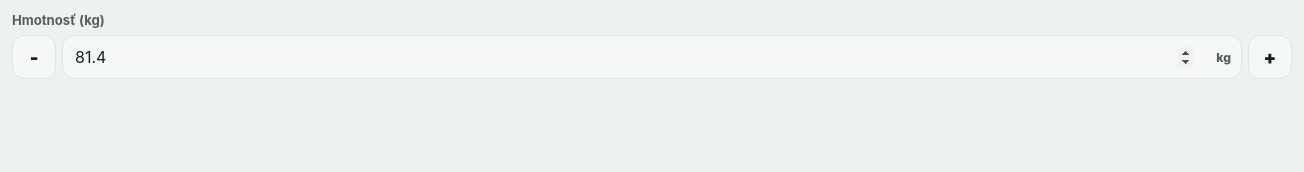
Scenario: NumberStepper › increments and decrements an uncontrolled decimal form value
The width and height of the screenshot is (1304, 172).
Click the button named "Hmotnosť (kg) zvýšiť" at (1270, 57), box [1248,35,1292,79]
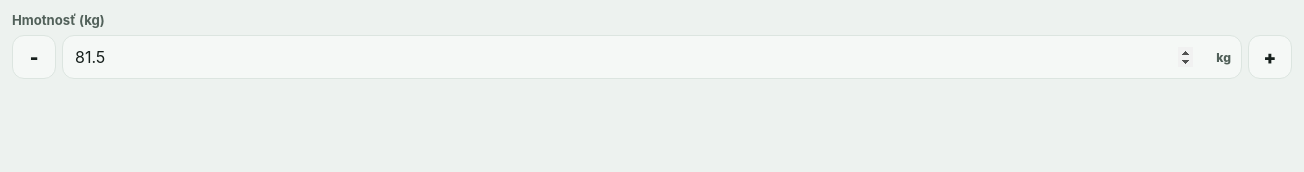
Result: the number field labelled "Hmotnosť (kg)" holds "81.5" at [62,35,1242,79]
Click the button named "Hmotnosť (kg) znížiť" at (34, 57), box [12,35,56,79]
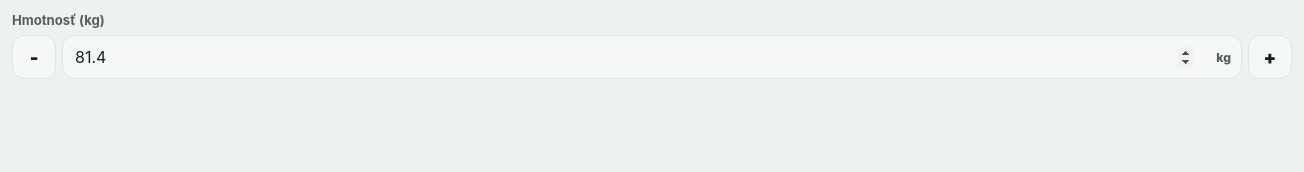
Click the button named "Hmotnosť (kg) znížiť" at (34, 57), box [12,35,56,79]
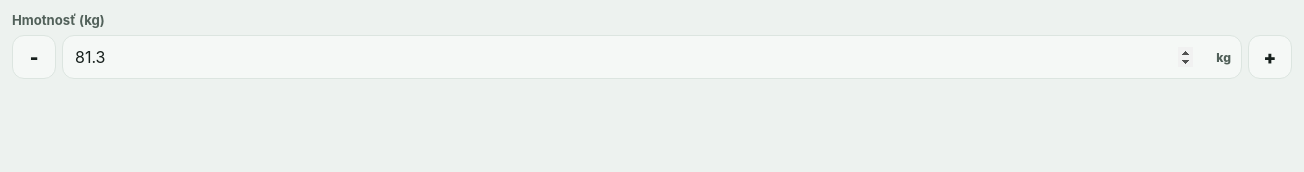
Result: the number field labelled "Hmotnosť (kg)" holds "81.3" at [62,35,1242,79]
